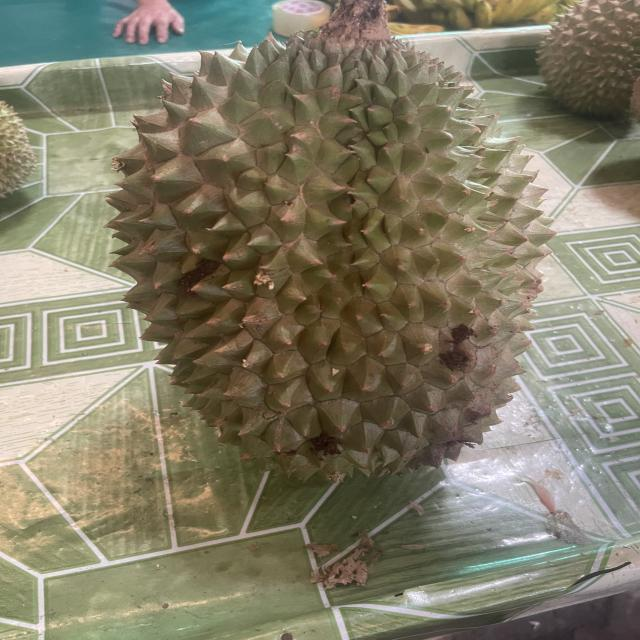mature: (106, 25, 552, 483)
